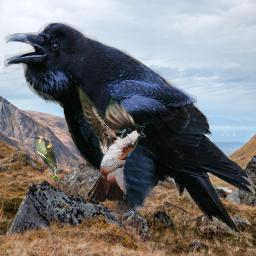Crow: (4, 21, 254, 237)
Cuckoo: (29, 135, 59, 184)
Swallow: (75, 84, 146, 202)
